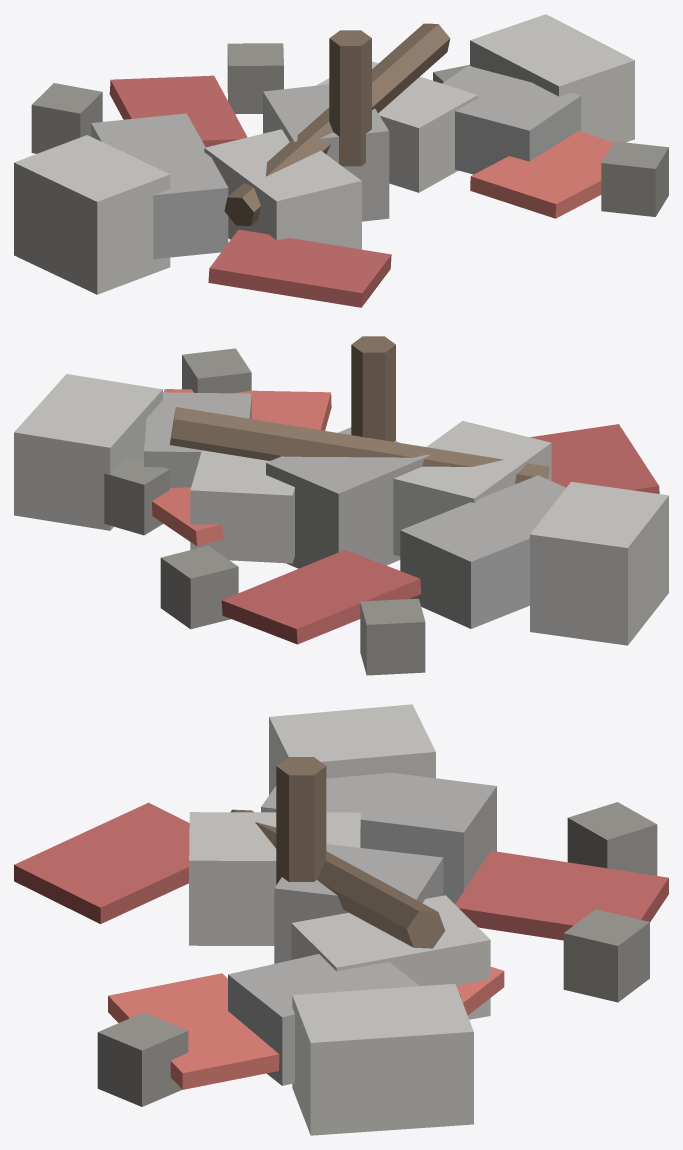
Rendered from ws_ruin_city_banner.glb.
3 views of the same model, one above another, from view 1: azimuth 30°, elevation 25°; view 2: azimuth 150°, elevation 25°; view 3: azimuth 270°, elevation 25° (orthographic). The views are drawn at different scales.
Visible parts, largest first — view 1: ws_ruin_city_banner; view 2: ws_ruin_city_banner; view 3: ws_ruin_city_banner.
Part boxes in pixels (left/top/right/bottom): ws_ruin_city_banner: left=14, top=14, right=668, bottom=307; ws_ruin_city_banner: left=14, top=336, right=668, bottom=675; ws_ruin_city_banner: left=14, top=704, right=668, bottom=1135.
Size of the model in its own units: 1.26 by 0.3764 by 1.05.
